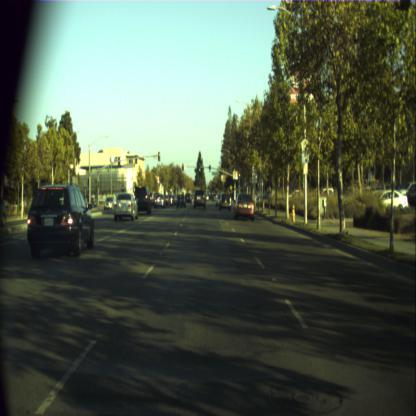Green: (198, 164, 201, 172), (238, 176, 240, 184), (209, 164, 210, 172), (234, 179, 235, 186)
RedLeft: (182, 162, 184, 171)
